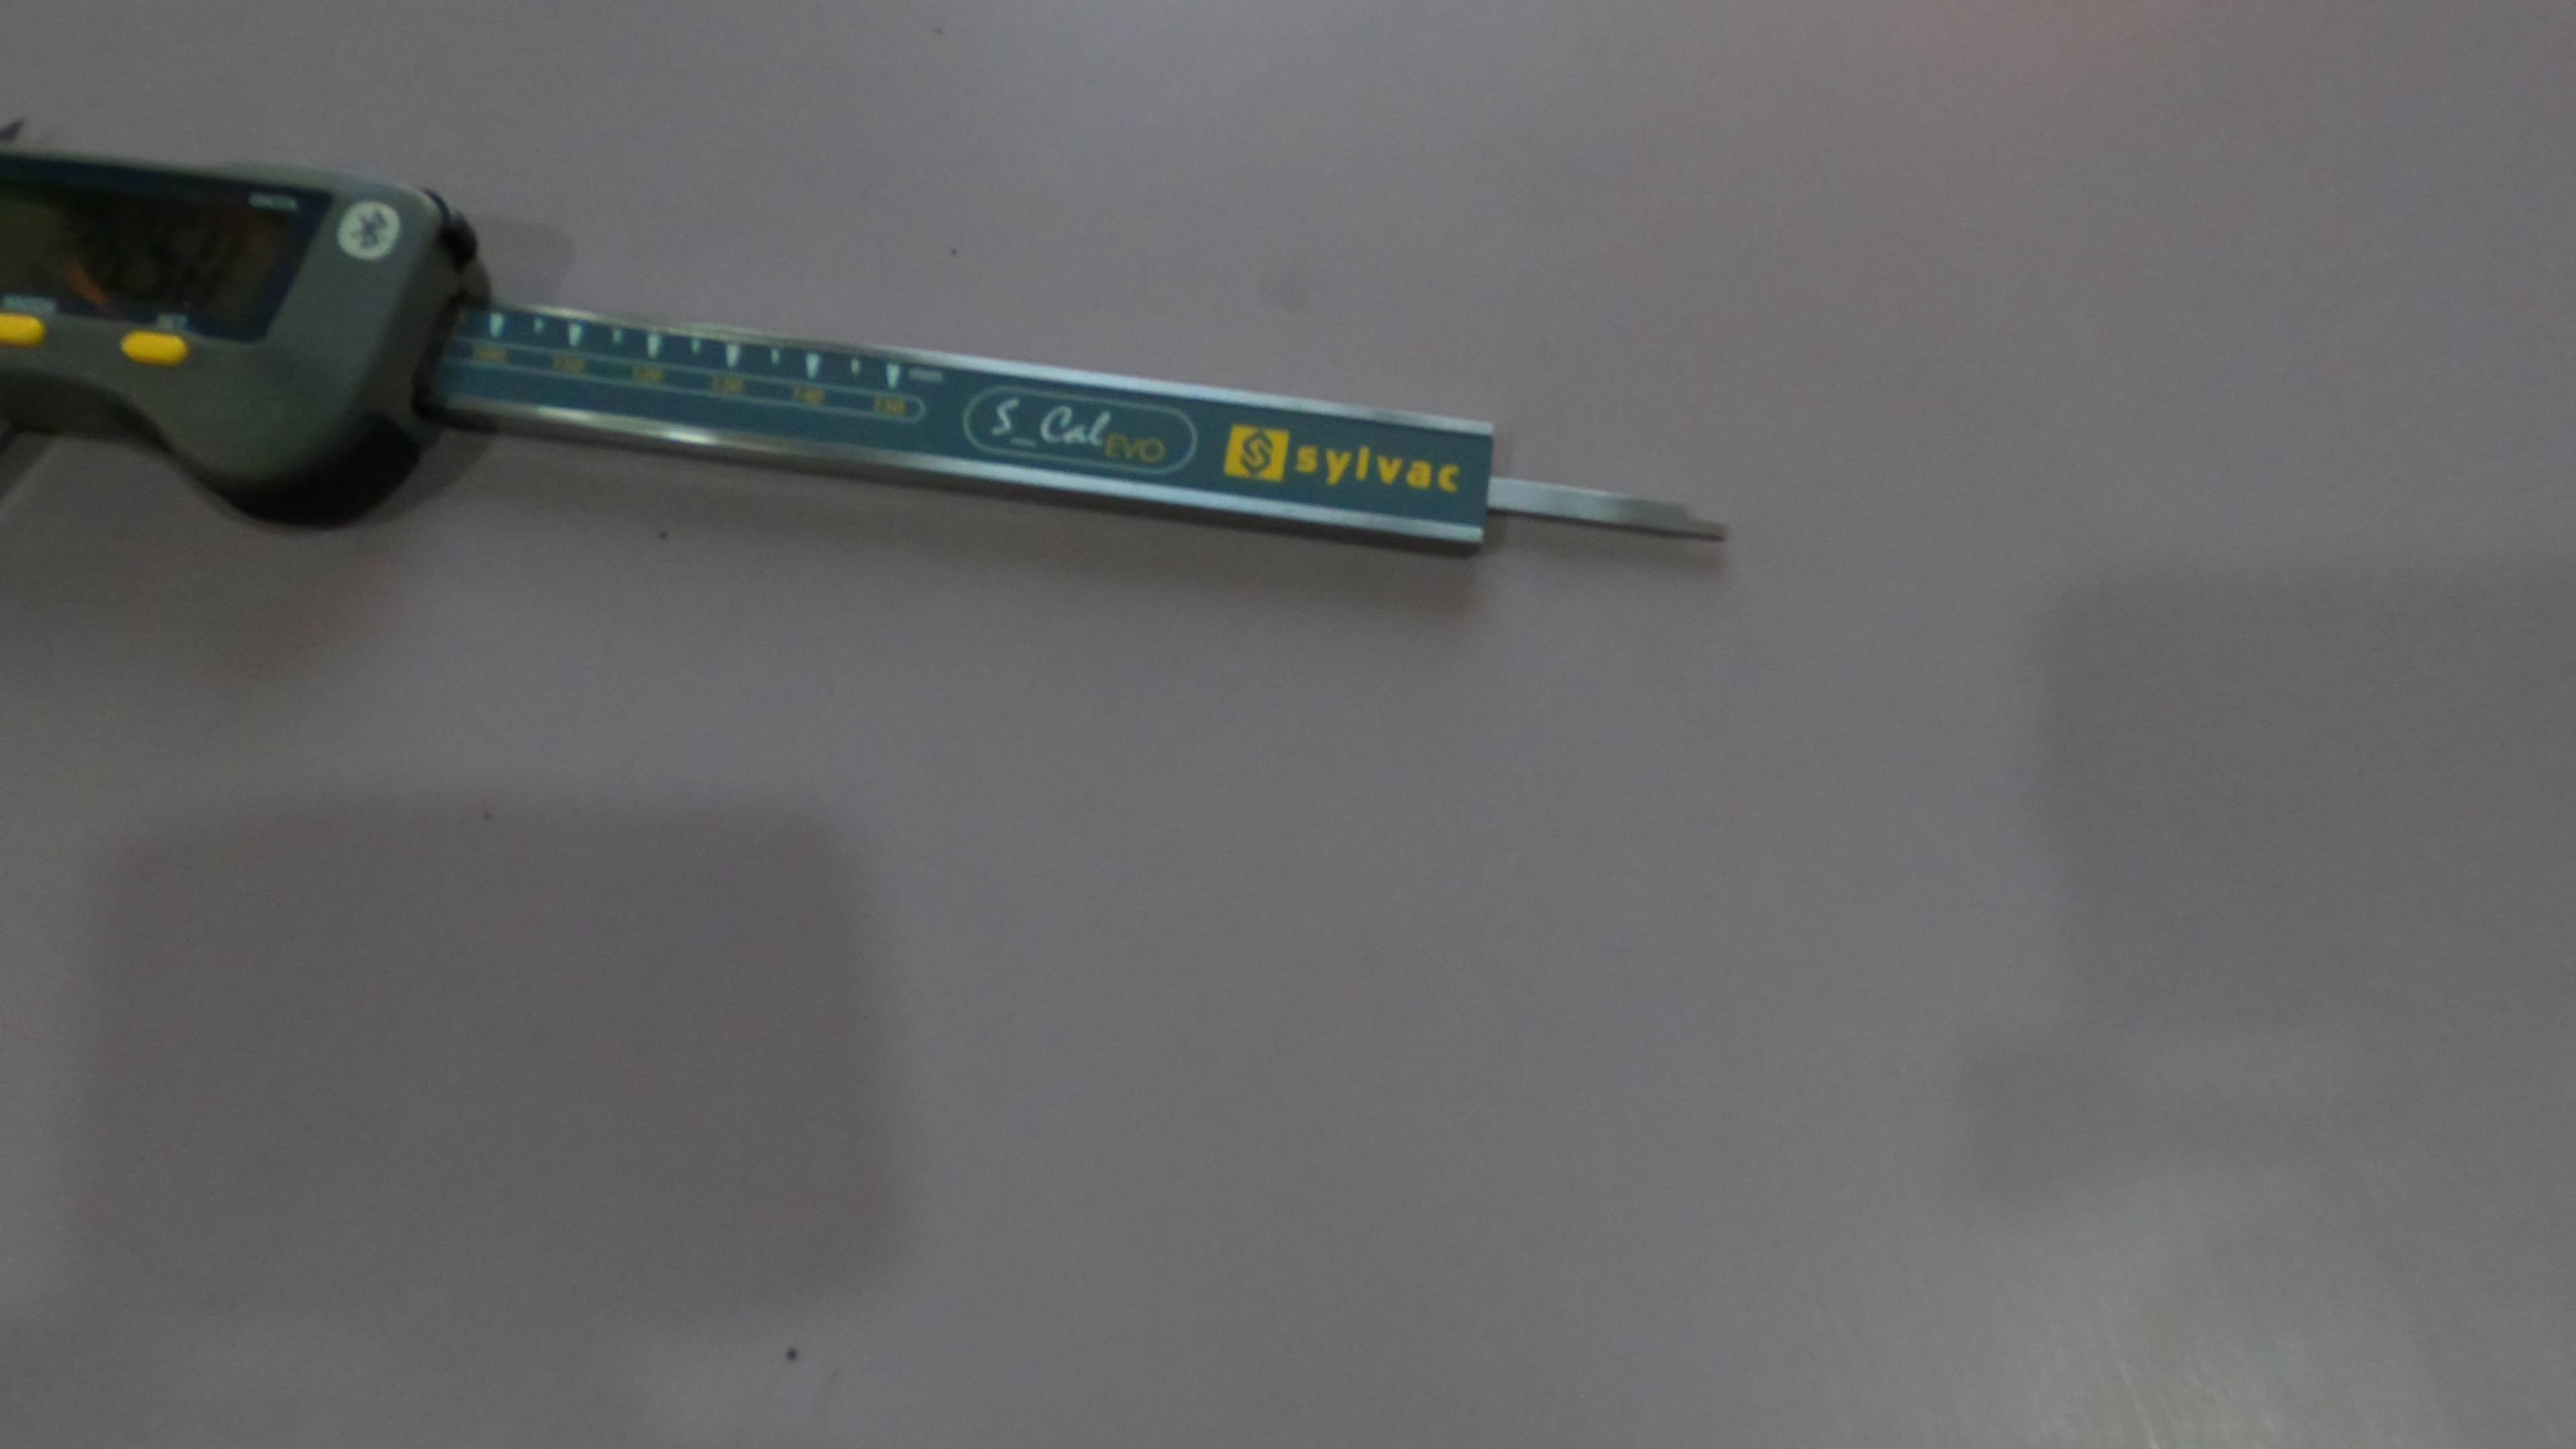vernier_caliper: (4, 115, 1744, 571)
